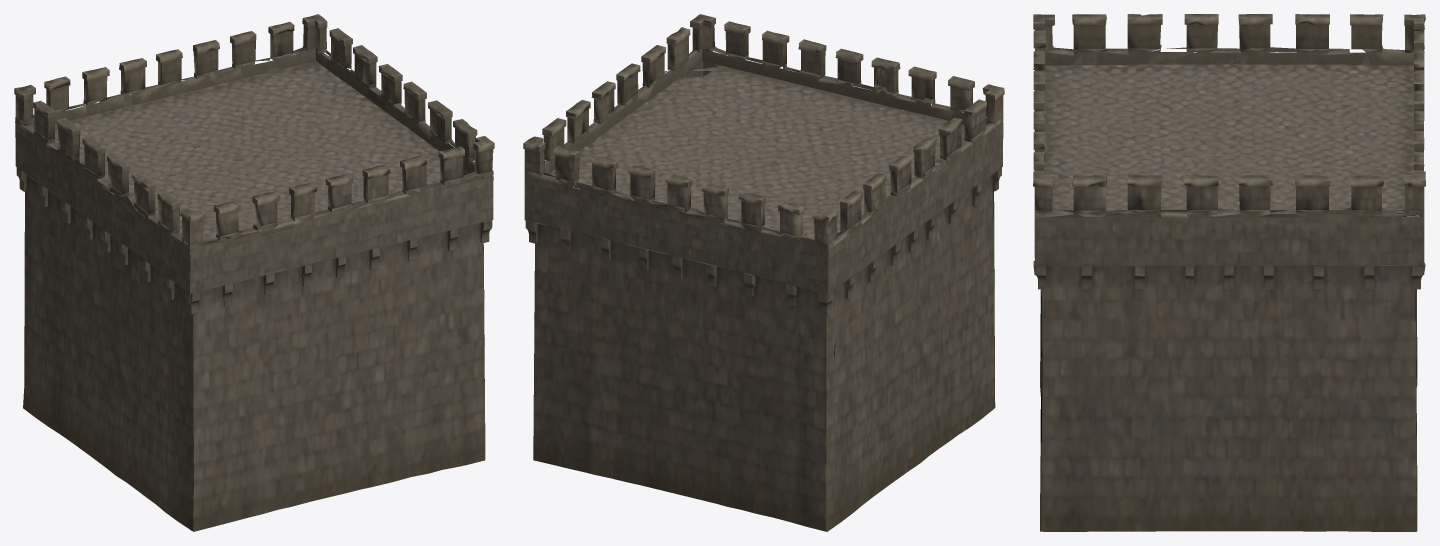
The model's file is castle-wall.glb.
The picture shows the model from 3 angles, left to right: view 1: azimuth 30°, elevation 25°; view 2: azimuth 150°, elevation 25°; view 3: azimuth 270°, elevation 25°; orthographic projection. The views are drawn at different scales.
Parts seen in each view (by area): view 1: Hearth wall unit (X length, Y height, Z thickness); view 2: Hearth wall unit (X length, Y height, Z thickness); view 3: Hearth wall unit (X length, Y height, Z thickness).
Boxes of the visible parts, left/top/right/bottom form: Hearth wall unit (X length, Y height, Z thickness): left=14, top=14, right=494, bottom=531; Hearth wall unit (X length, Y height, Z thickness): left=523, top=14, right=1004, bottom=531; Hearth wall unit (X length, Y height, Z thickness): left=1033, top=14, right=1425, bottom=531.
Bounding box in the file's own units: 1 × 1 × 1.
1 material, 1 textured.
